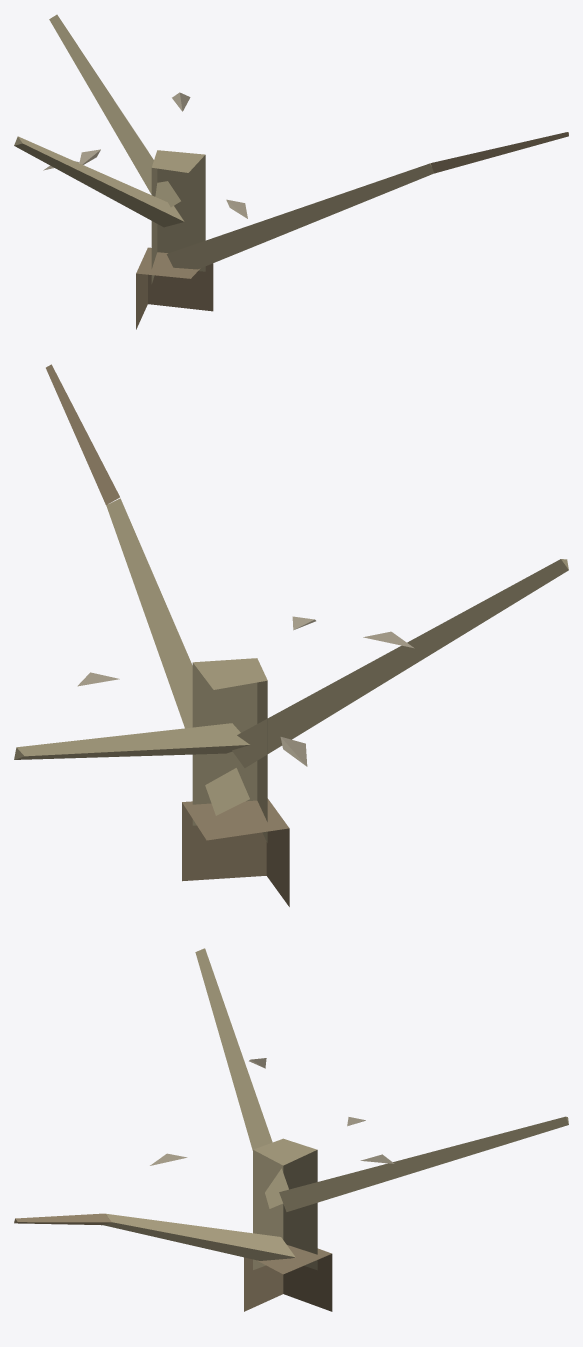
File: shu.yinxing@withered__summer.glb
3 renders of one model, top to bottom at view 1: azimuth 30°, elevation 25°; view 2: azimuth 150°, elevation 25°; view 3: azimuth 270°, elevation 25°, orthographic. The views are drawn at different scales.
Visible parts, largest first — view 1: shu.yinxing@withered__summer; view 2: shu.yinxing@withered__summer; view 3: shu.yinxing@withered__summer.
Boxes of the visible parts, x1,y1,x2,y2 form: shu.yinxing@withered__summer: (14,14,568,329); shu.yinxing@withered__summer: (14,364,568,906); shu.yinxing@withered__summer: (14,948,568,1311).
Size of the model in its own units: 7.09 by 3.79 by 7.13.
